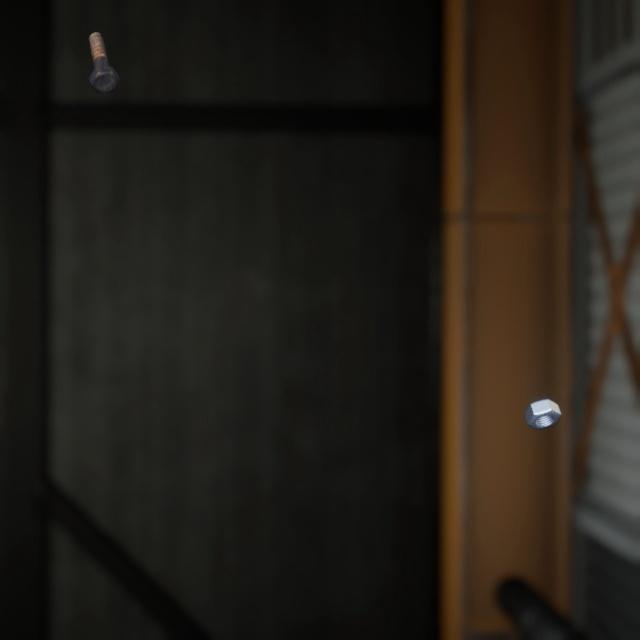bolt: (84, 18, 124, 87)
nut: (519, 374, 566, 414)
